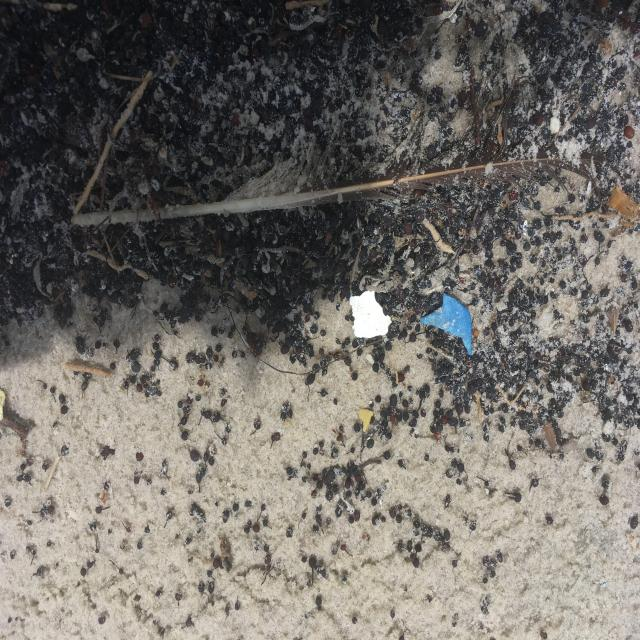litter: (156, 273, 225, 363), (245, 297, 296, 353)
